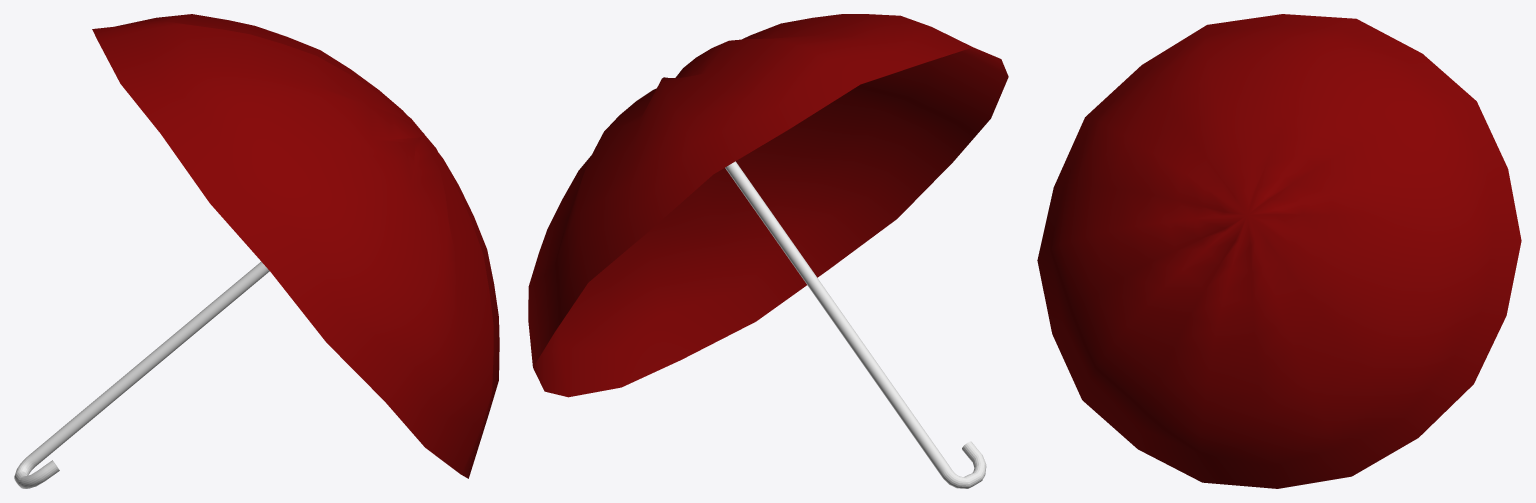
File: san1.fbx
3 views of the same model, side by side, from view 1: azimuth 30°, elevation 25°; view 2: azimuth 150°, elevation 25°; view 3: azimuth 270°, elevation 25° (orthographic). The views are drawn at different scales.
Parts seen in each view (by area): view 1: pSphere3; view 2: pSphere3; view 3: pSphere3.
Boxes of the visible parts, x1=… form: pSphere3: x1=14, y1=14, x2=499, y2=488; pSphere3: x1=528, y1=14, x2=1008, y2=488; pSphere3: x1=1037, y1=14, x2=1521, y2=488.
Bounding box in the file's own units: 0.1181 × 0.1123 × 0.1373.
